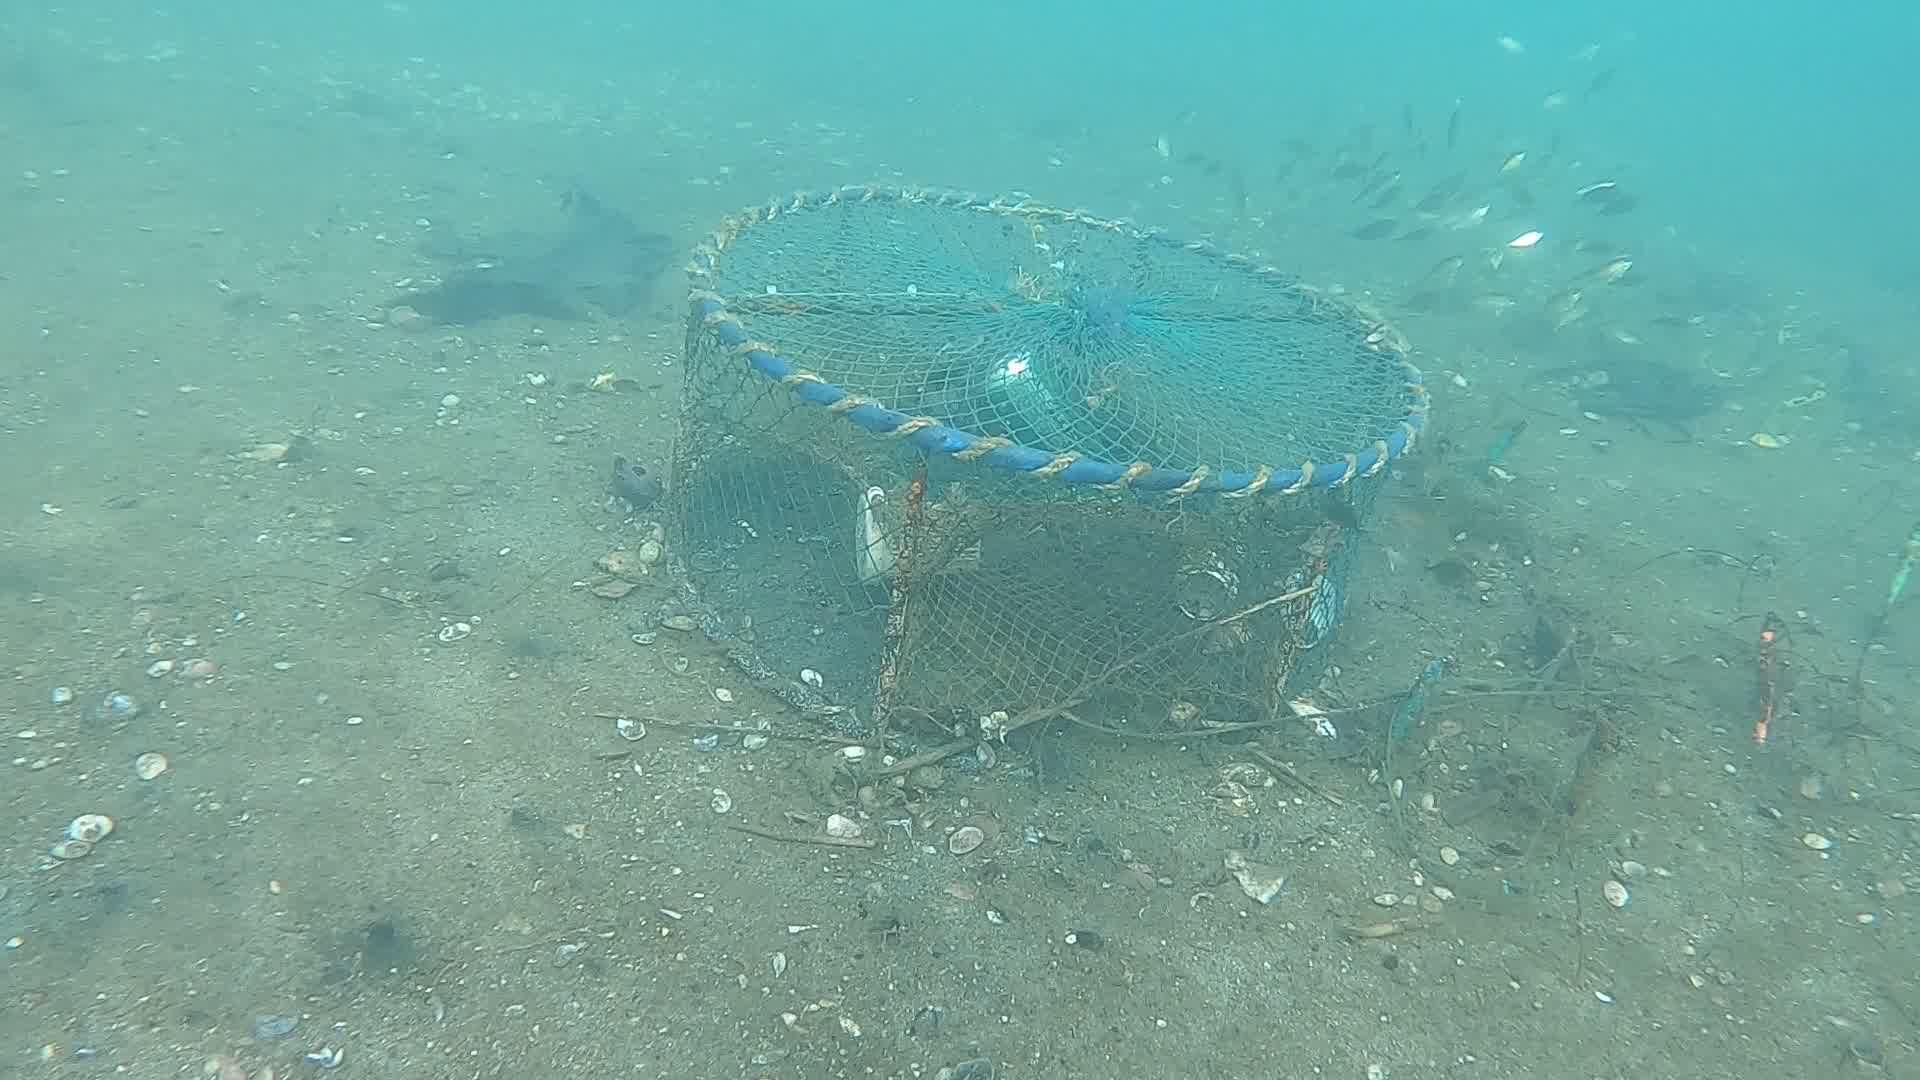circular fish trap: (659, 177, 1437, 766)
